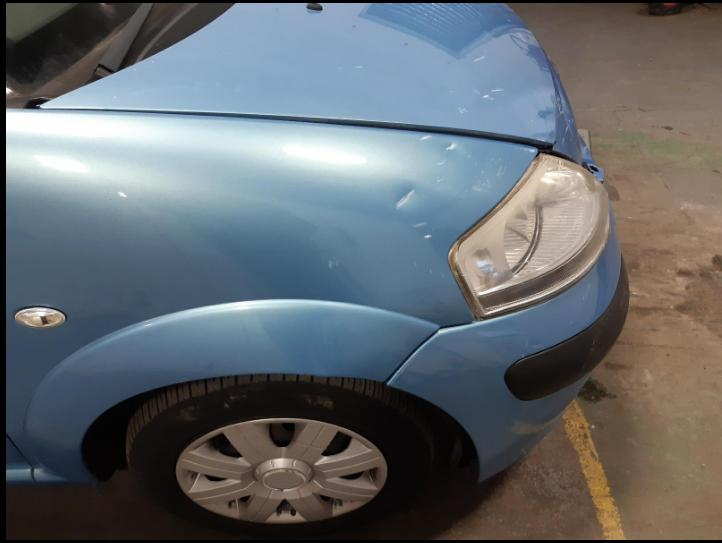Fender: (4, 111, 538, 482)
Front-bumper: (389, 200, 630, 480), (578, 129, 606, 182)
Front-door: (4, 436, 31, 471)
Front-wheel: (125, 373, 435, 539)
Grille: (546, 57, 583, 162)
Headlight: (449, 154, 609, 319)
Hood: (43, 2, 559, 142)
Rocker-panel: (2, 469, 30, 483)
Windshield: (5, 3, 235, 101)
